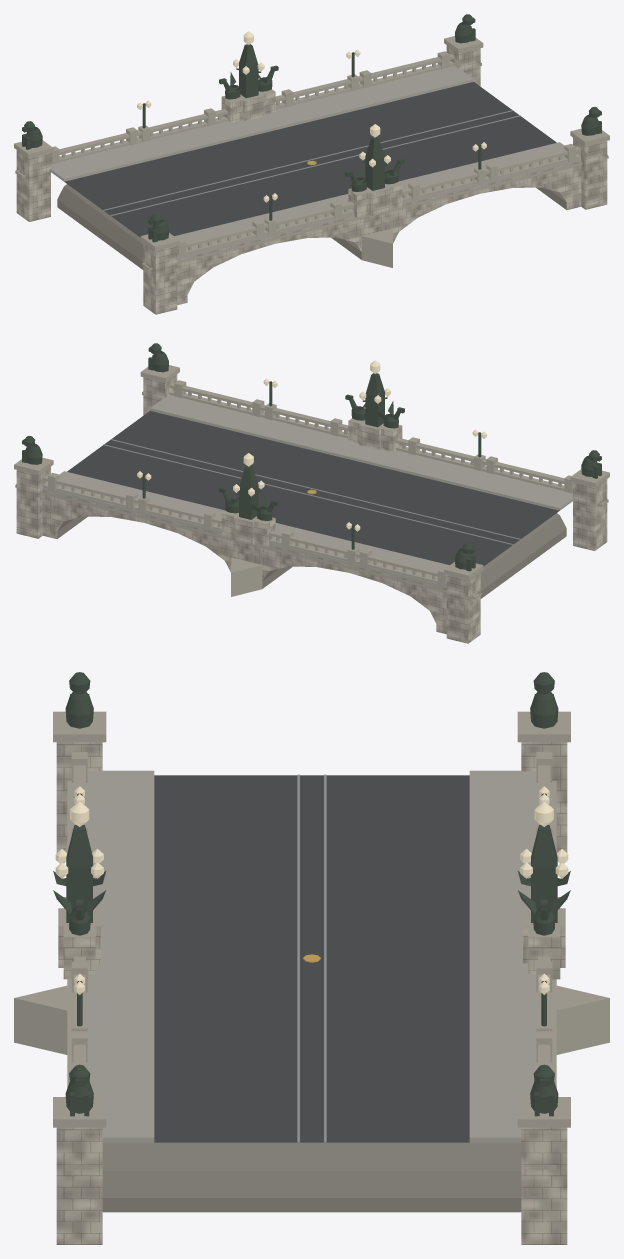
File: nihonbashi_bridge.glb
3 views of the same model, one above another, from view 1: azimuth 30°, elevation 25°; view 2: azimuth 150°, elevation 25°; view 3: azimuth 270°, elevation 25° (orthographic). The views are drawn at different scales.
Visible parts, largest first — view 1: nihonbashi_bridge; view 2: nihonbashi_bridge; view 3: nihonbashi_bridge.
Boxes of the visible parts, box(x1,y1,x2,y2) form: nihonbashi_bridge: box(14, 14, 609, 314); nihonbashi_bridge: box(14, 343, 609, 643); nihonbashi_bridge: box(14, 672, 609, 1244).
Size of the model in its own units: 55 by 15 by 33.61.
2 materials, 2 textured.
